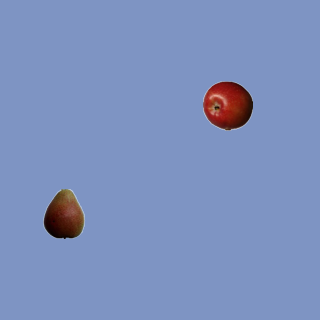Apple Braeburn: (202, 80, 252, 130)
Pear Forelle: (38, 188, 88, 238)
